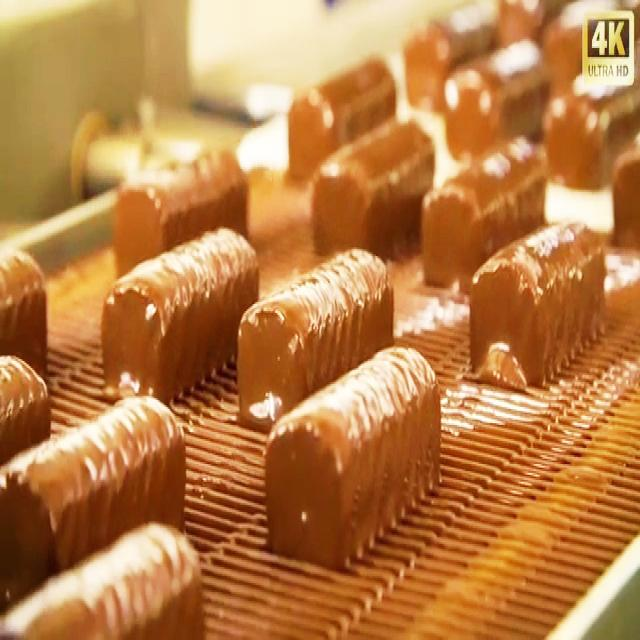Choco: (263, 339, 442, 569), (1, 406, 202, 570), (235, 242, 395, 428), (99, 222, 259, 402), (467, 212, 607, 390), (7, 549, 258, 640), (112, 142, 249, 274), (309, 110, 436, 252), (286, 42, 401, 168), (424, 164, 542, 269), (551, 64, 636, 186), (442, 51, 547, 143), (399, 15, 493, 101), (0, 346, 57, 442), (3, 246, 51, 357), (610, 138, 640, 252), (546, 18, 592, 78), (497, 0, 547, 44)
